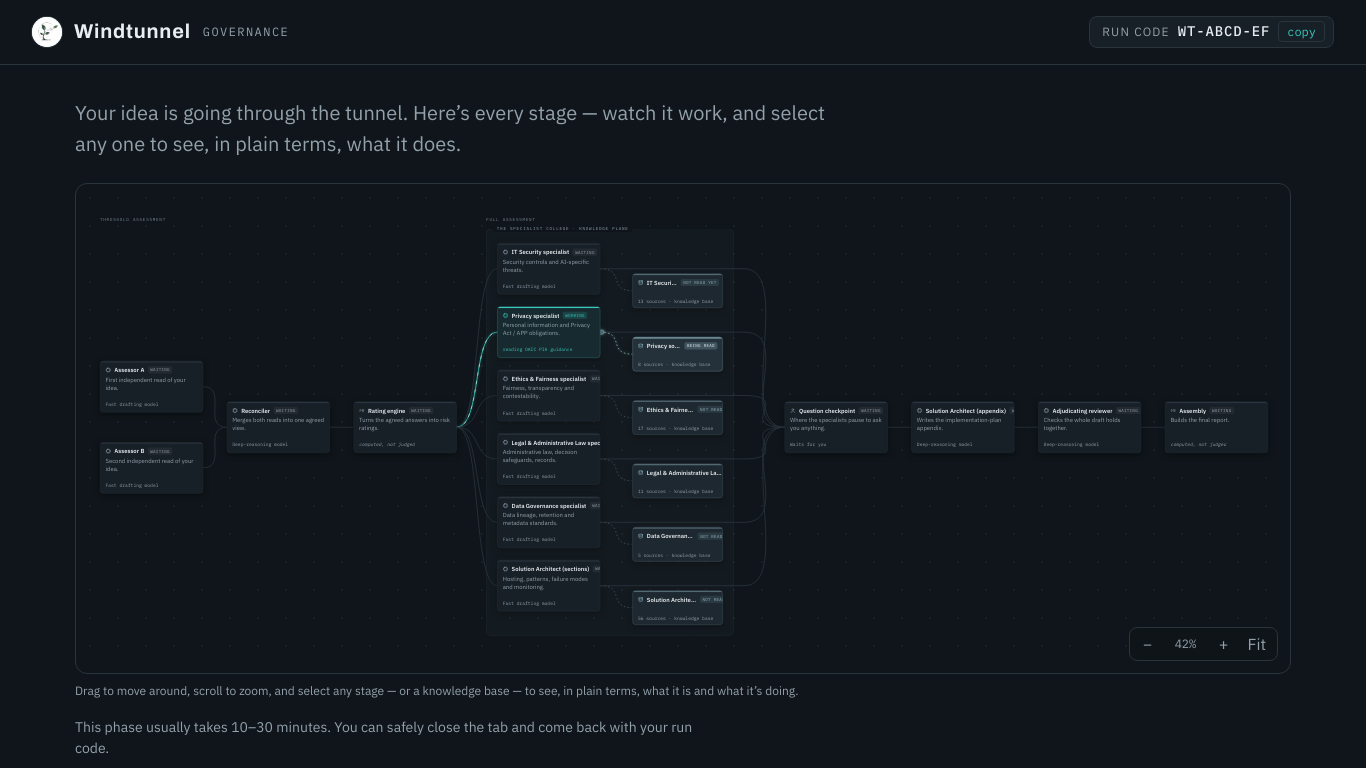
Test: Chamber state routing › running: selecting a specialist's knowledge base shows the shelf and the sources it served
Click the button with aria-label "Privacy sources — a knowledge base, being read" at (678, 354), box [632,336,723,371]
(page scrolled)
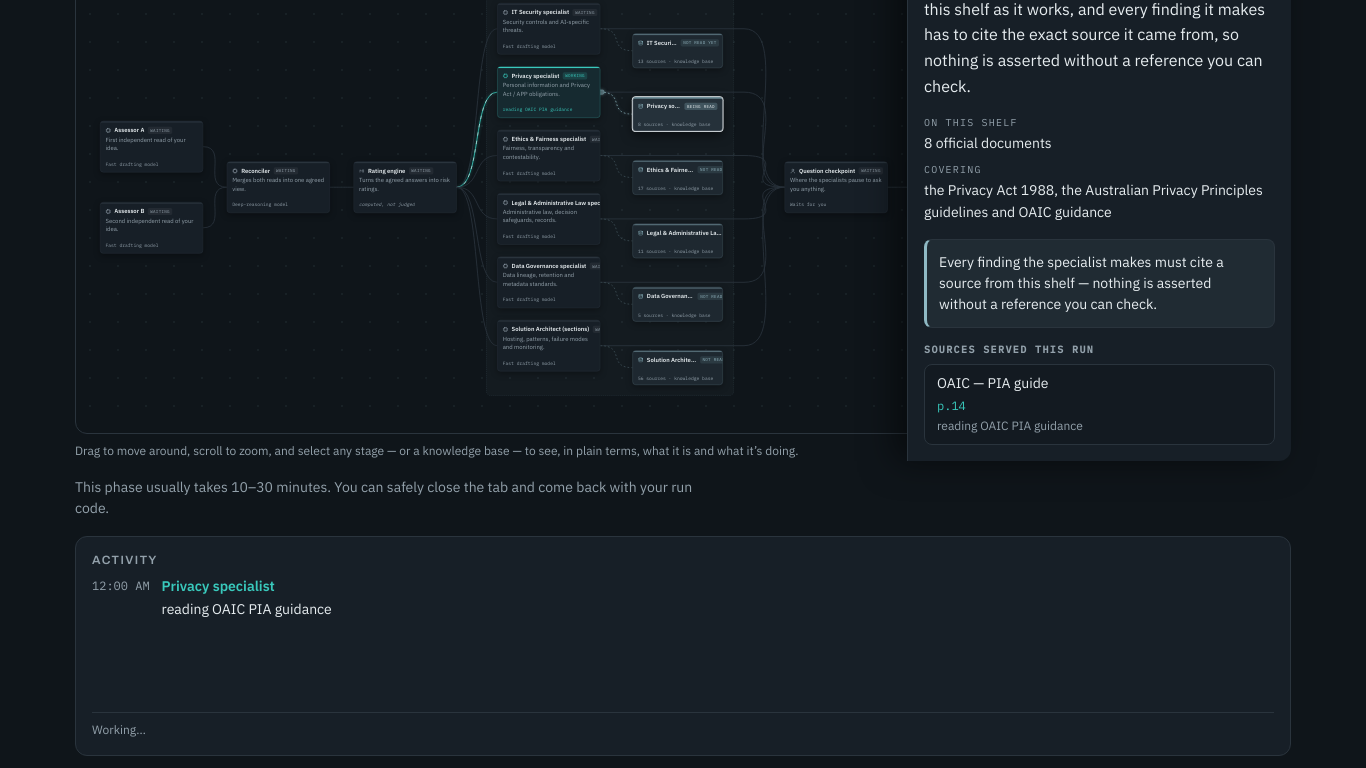
expect the heading "Sources served this run" is shown: met, box [924,343,1094,356]
expect the text "OAIC — PIA guide" is shown: met, box [937,374,1048,392]
